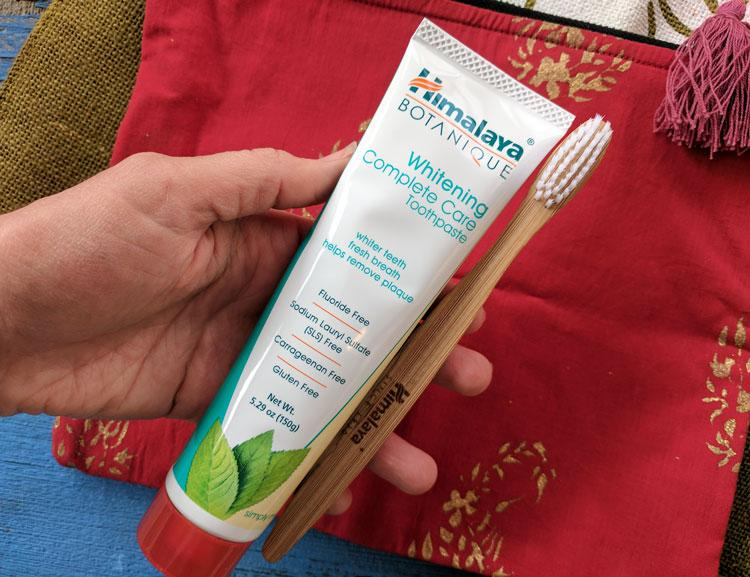toothpaste: (103, 20, 590, 577)
